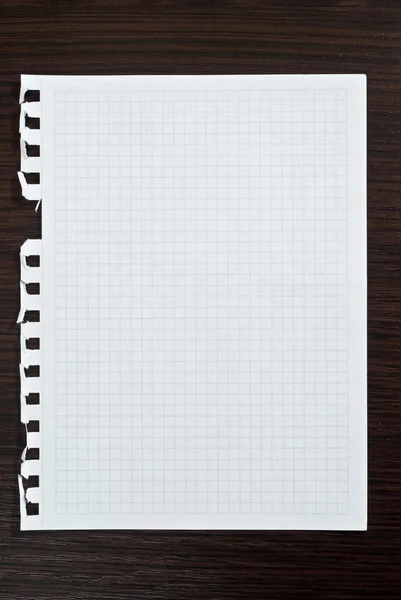page: (46, 79, 364, 527)
